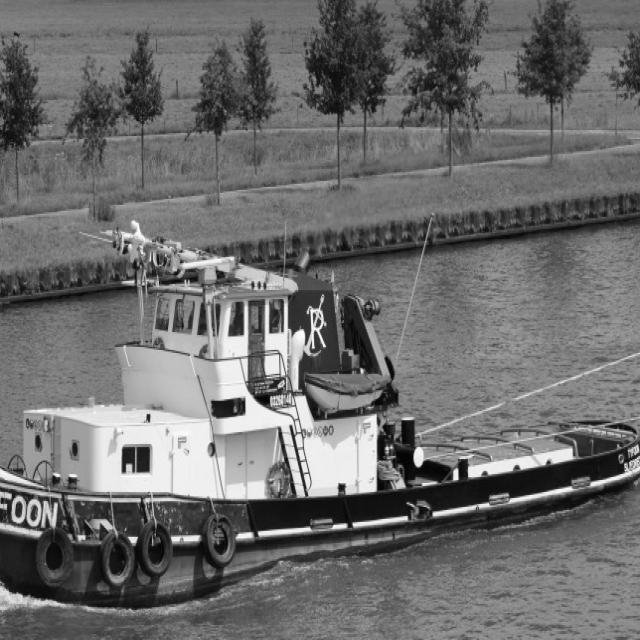tugboat: (1, 210, 640, 632)
